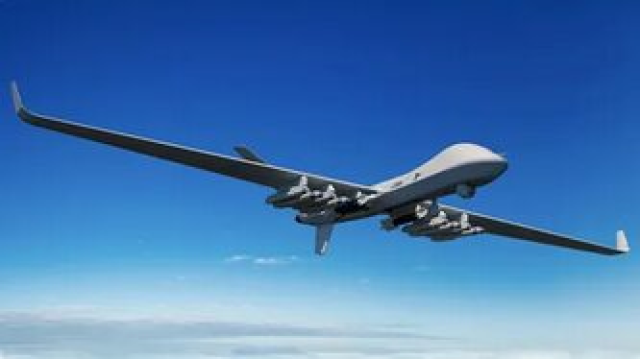military drone: (10, 79, 630, 256)
